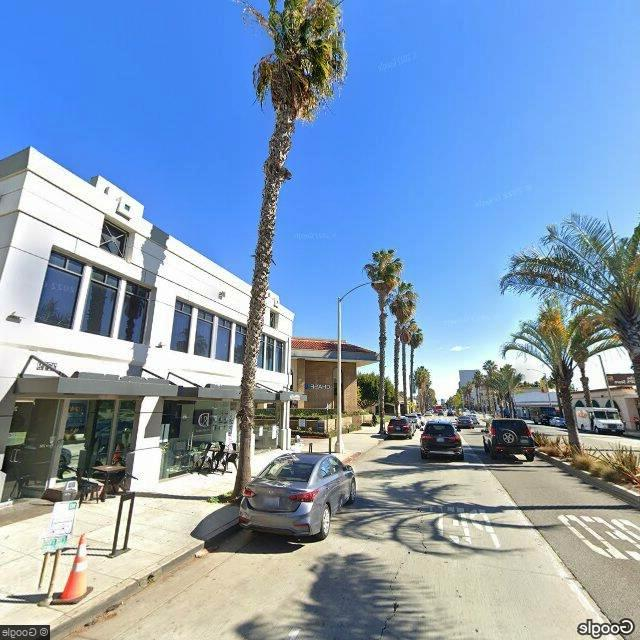pothole: (358, 560, 409, 638), (413, 494, 434, 552)
